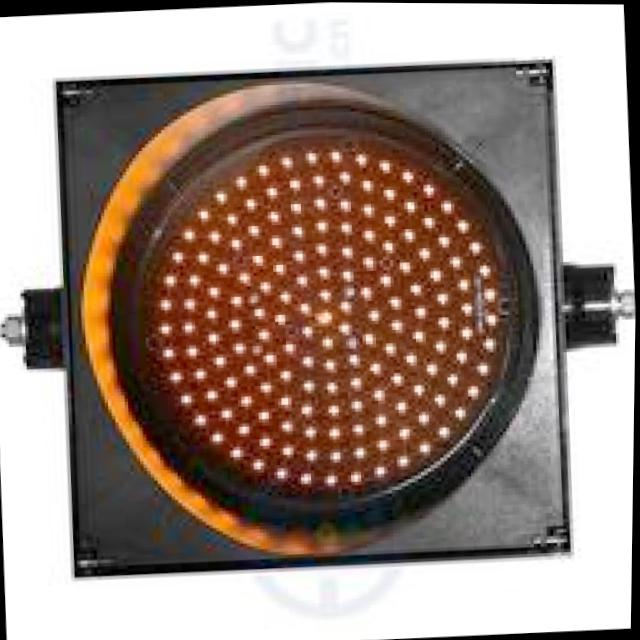yellow_light: (62, 38, 609, 551)
